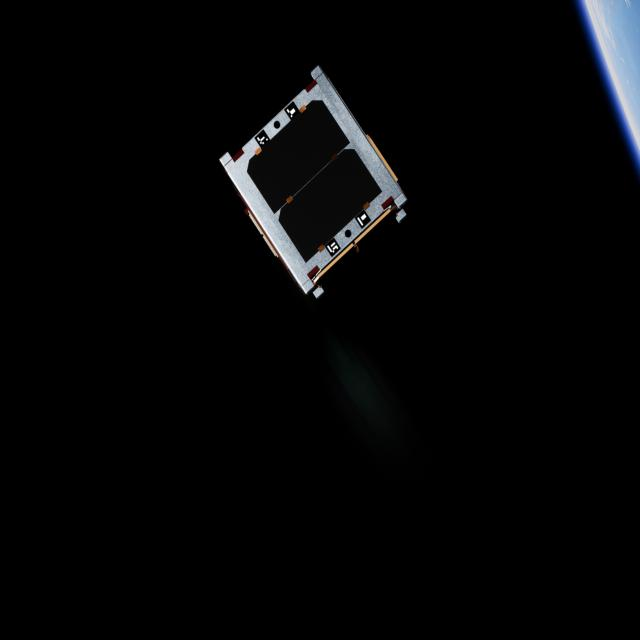satellite: (218, 64, 416, 305)
